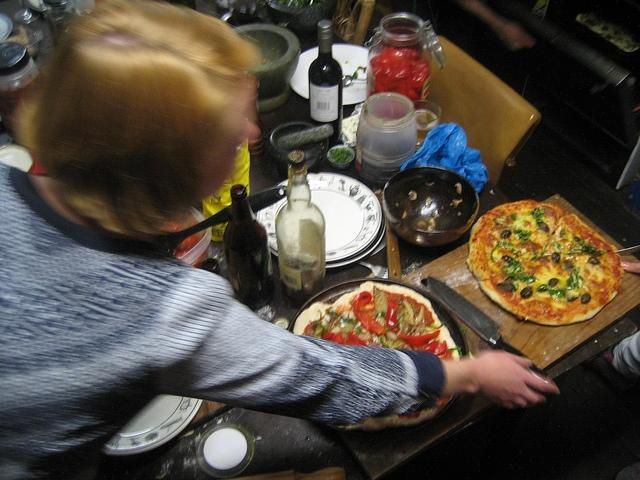bell pepper: (353, 291, 386, 336), (398, 330, 440, 348), (369, 54, 404, 74), (410, 64, 431, 88), (386, 66, 412, 82), (376, 78, 402, 94), (402, 299, 415, 327), (415, 340, 439, 354), (346, 331, 368, 346), (392, 48, 420, 59), (410, 59, 430, 74), (322, 332, 346, 344), (432, 340, 448, 356), (408, 90, 421, 106), (439, 350, 454, 361), (584, 236, 592, 244), (512, 267, 520, 275)
mushroom: (454, 182, 462, 196), (428, 218, 436, 231), (386, 331, 396, 341), (424, 196, 432, 208), (452, 199, 462, 208), (408, 190, 417, 200), (402, 211, 408, 219), (458, 211, 462, 215)
